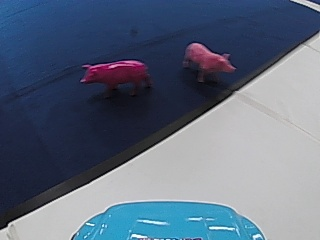pig: (76, 56, 152, 98), (181, 39, 236, 83)
